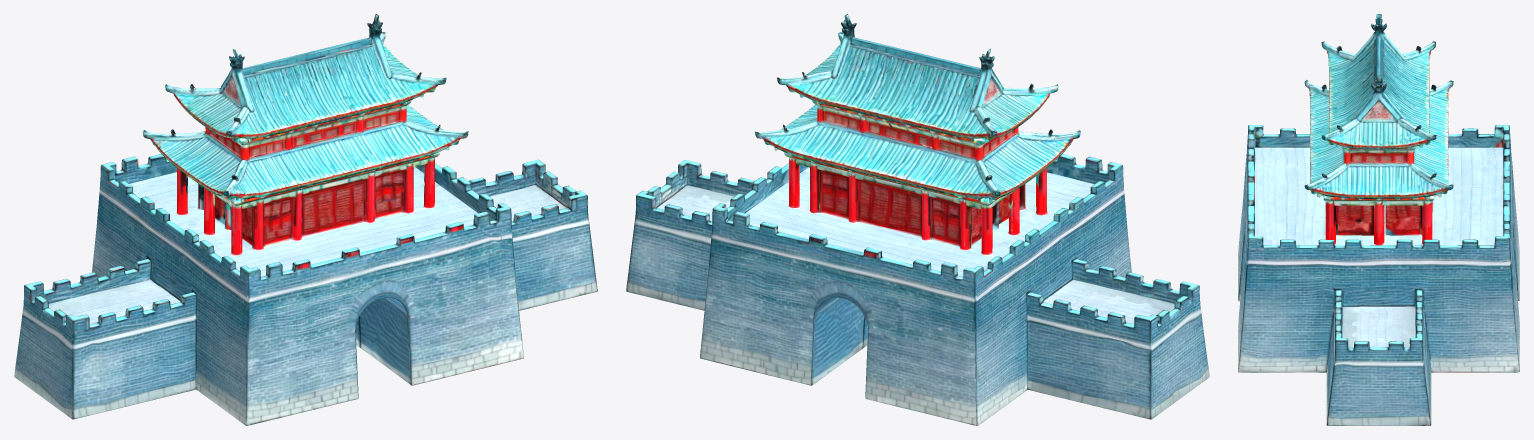
File: qm_gate.glb
3 views of the same model, side by side, from view 1: azimuth 30°, elevation 25°; view 2: azimuth 150°, elevation 25°; view 3: azimuth 270°, elevation 25° (orthographic). The views are drawn at different scales.
Visible parts, largest first — view 1: qm_gate; view 2: qm_gate; view 3: qm_gate.
Part boxes in pixels (x1,y1,x2,y2): qm_gate: (14,14,597,425); qm_gate: (626,14,1209,425); qm_gate: (1238,14,1519,425).
Bounding box in the file's own units: 29.12 × 16 × 15.26.
1 material, 1 textured.
